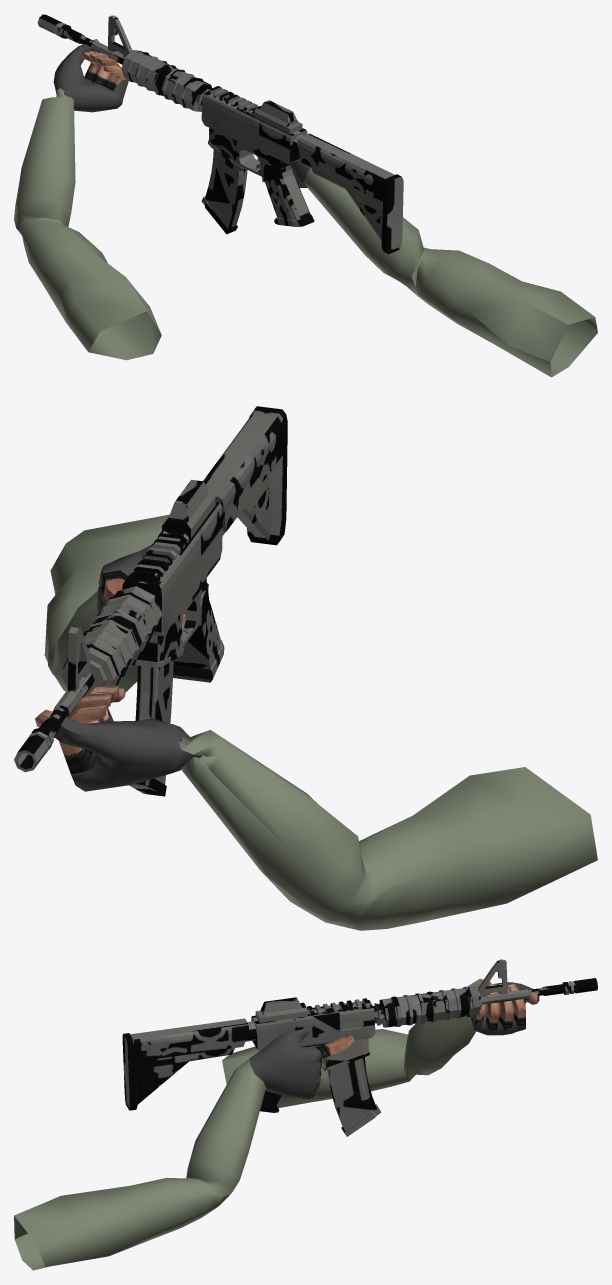
File: gun_rifle.glb
The picture shows the model from 3 angles, top to bottom: view 1: azimuth 30°, elevation 25°; view 2: azimuth 150°, elevation 25°; view 3: azimuth 270°, elevation 25°; orthographic projection. The views are drawn at different scales.
Visible parts, largest first — view 1: body_sleeve, body_QUATP, body_glove, mag_QUATP, body_ARMS; view 2: body_sleeve, body_QUATP, body_glove, body_ARMS, mag_QUATP; view 3: body_sleeve, body_QUATP, body_glove, mag_QUATP, body_ARMS.
Part boxes in pixels (bbox=[...]): body_sleeve: bbox=[14, 87, 597, 377]; body_QUATP: bbox=[37, 14, 403, 254]; body_glove: bbox=[53, 44, 311, 188]; mag_QUATP: bbox=[201, 150, 247, 234]; body_ARMS: bbox=[82, 39, 264, 182]; body_sleeve: bbox=[44, 514, 597, 930]; body_QUATP: bbox=[14, 406, 287, 772]; body_glove: bbox=[54, 545, 201, 791]; body_ARMS: bbox=[35, 570, 185, 774]; mag_QUATP: bbox=[129, 660, 173, 796]; body_sleeve: bbox=[14, 978, 491, 1270]; body_QUATP: bbox=[122, 959, 597, 1112]; body_glove: bbox=[250, 982, 539, 1099]; mag_QUATP: bbox=[327, 1057, 381, 1136]; body_ARMS: bbox=[315, 983, 537, 1082].
Size of the model in its own units: 79.8 by 41.62 by 103.
4 materials, 2 textured.
